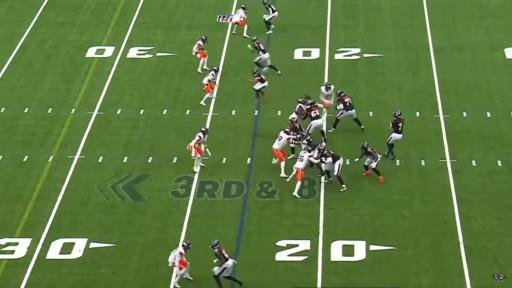Helmet: (182, 242, 191, 250), (210, 240, 219, 248), (297, 98, 306, 105), (361, 142, 368, 151), (290, 118, 297, 126), (394, 111, 401, 119), (200, 128, 208, 135), (200, 35, 208, 42), (301, 132, 308, 139), (318, 146, 325, 153), (304, 146, 312, 152), (337, 91, 345, 97), (325, 83, 331, 90), (213, 66, 219, 73), (253, 69, 259, 75), (284, 129, 291, 134), (241, 4, 246, 11), (308, 100, 314, 105), (252, 37, 258, 42), (263, 0, 269, 5)
Jersey: (273, 131, 293, 149), (294, 151, 313, 169), (169, 247, 185, 266), (214, 247, 229, 265), (307, 102, 321, 121), (338, 95, 354, 111), (391, 118, 403, 134), (364, 146, 378, 159), (191, 133, 205, 146), (326, 151, 341, 163), (321, 86, 334, 99), (253, 42, 267, 54), (295, 104, 306, 119), (290, 121, 303, 133), (203, 71, 216, 83), (193, 40, 204, 54), (235, 9, 246, 20), (266, 4, 277, 14), (255, 74, 266, 83)
Player: (287, 147, 319, 198), (328, 91, 364, 132), (211, 240, 242, 287), (318, 146, 346, 191), (248, 37, 280, 74), (168, 241, 193, 288), (355, 142, 383, 183), (299, 132, 325, 174), (273, 129, 295, 177), (187, 128, 208, 172), (306, 98, 326, 142), (385, 111, 403, 159), (200, 67, 218, 105), (248, 70, 268, 101), (289, 99, 306, 134), (193, 36, 209, 73), (233, 4, 249, 37), (263, 0, 278, 33), (289, 99, 306, 121), (320, 83, 334, 109), (197, 47, 209, 73)
